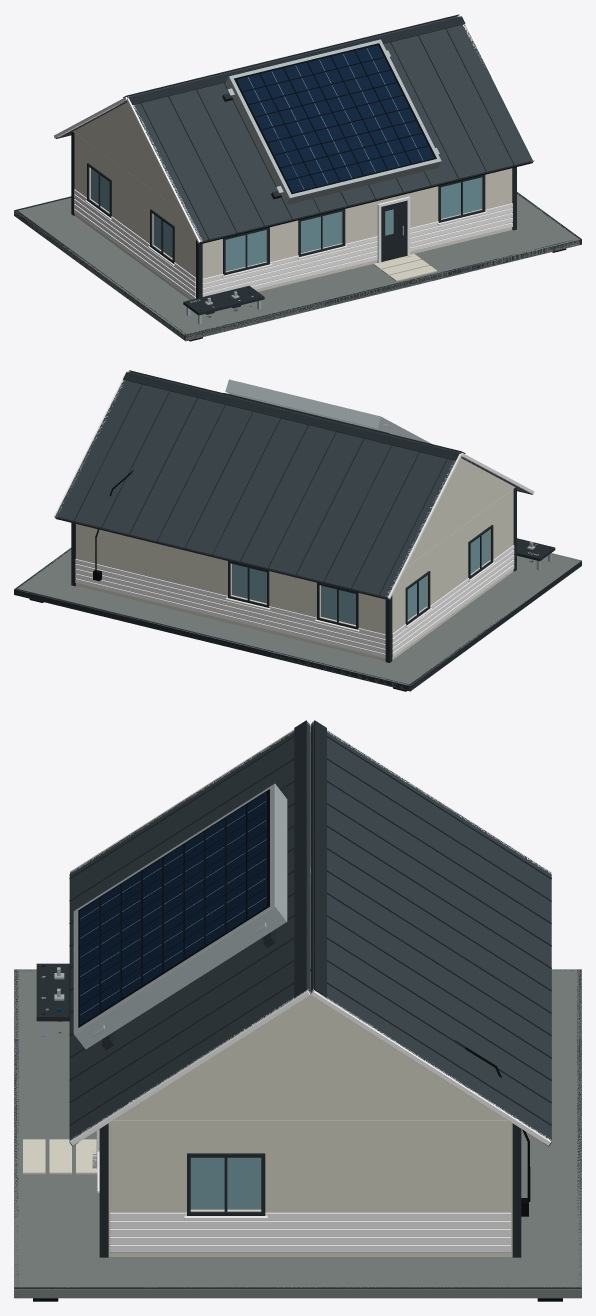
File: dom.glb
3 renders of one model, top to bottom at view 1: azimuth 30°, elevation 25°; view 2: azimuth 150°, elevation 25°; view 3: azimuth 270°, elevation 25°, orthographic. The views are drawn at different scales.
Parts seen in each view (by area): view 1: ROOF P10 rovina 504x230x4, P01 Podstava 600x450x8, P02 Predna stena 480x120x6, P04 Lava stena 318x120x6, SOLAR Panel 230x195x17, ROOF P11 stit 330x116x4, SOLAR Tmave pozadie clankov, ROOF A07 hrebenac 504x12x1, Obvodova hrana podstavy.002, A01 Vodorovny obklad celo.004, A01 Vodorovny obklad celo.006, A01 Vodorovny obklad celo.002 (+18 smaller); view 2: ROOF P10 rovina 504x230x4.001, P01 Podstava 600x450x8, P03 Zadna stena 480x120x6, P04 Lava stena 318x120x6, ROOF P11 stit 330x116x4, ROOF A07 hrebenac 504x12x1.001, Obvodova hrana podstavy.003, SOLAR Panel 230x195x17, A01 Vodorovny obklad celo.001, A01 Vodorovny obklad celo.003, A01 Vodorovny obklad celo.007, A01 Vodorovny obklad celo.005 (+16 smaller); view 3: ROOF P10 rovina 504x230x4.001, P01 Podstava 600x450x8, P05 Prava stena 318x120x6, ROOF P10 rovina 504x230x4, ROOF P11 stit 330x116x4.001, SOLAR Panel 230x195x17, SOLAR Tmave pozadie clankov, Volitelny difuzny akrylat.007, A01 Vodorovny obklad bok.001, A01 Vodorovny obklad bok.003, A01 Vodorovny obklad bok.005, A01 Vodorovny obklad bok.007 (+13 smaller).
Part boxes in pixels (box(x1,y1,x2,y2)): ROOF P10 rovina 504x230x4: box(129, 24, 532, 241); P01 Podstava 600x450x8: box(14, 192, 581, 341); P02 Predna stena 480x120x6: box(202, 168, 512, 292); P04 Lava stena 318x120x6: box(75, 133, 195, 299); SOLAR Panel 230x195x17: box(225, 39, 441, 204); ROOF P11 stit 330x116x4: box(73, 102, 181, 211); SOLAR Tmave pozadie clankov: box(234, 43, 436, 193); ROOF A07 hrebenac 504x12x1: box(129, 16, 465, 104); Obvodova hrana podstavy.002: box(184, 240, 579, 339); A01 Vodorovny obklad celo.004: box(202, 213, 512, 292); A01 Vodorovny obklad celo.006: box(202, 208, 512, 287); A01 Vodorovny obklad celo.002: box(202, 217, 512, 296); ROOF P10 rovina 504x230x4.001: box(55, 380, 458, 597); P01 Podstava 600x450x8: box(14, 548, 581, 691); P03 Zadna stena 480x120x6: box(76, 524, 385, 661); P04 Lava stena 318x120x6: box(392, 489, 513, 659); ROOF P11 stit 330x116x4: box(406, 458, 515, 567); ROOF A07 hrebenac 504x12x1.001: box(123, 372, 459, 460); Obvodova hrana podstavy.003: box(14, 588, 410, 690); SOLAR Panel 230x195x17: box(225, 379, 431, 443); A01 Vodorovny obklad celo.001: box(75, 578, 385, 658); A01 Vodorovny obklad celo.003: box(75, 573, 385, 653); A01 Vodorovny obklad celo.007: box(75, 564, 385, 643); A01 Vodorovny obklad celo.005: box(75, 568, 385, 648); ROOF P10 rovina 504x230x4.001: box(310, 722, 551, 1140); P01 Podstava 600x450x8: box(14, 969, 581, 1298); P05 Prava stena 318x120x6: box(110, 1120, 511, 1256); ROOF P10 rovina 504x230x4: box(70, 722, 310, 1140); ROOF P11 stit 330x116x4.001: box(114, 986, 506, 1119); SOLAR Panel 230x195x17: box(73, 783, 287, 1049); SOLAR Tmave pozadie clankov: box(78, 789, 269, 1027); Volitelny difuzny akrylat.007: box(190, 1157, 261, 1209); A01 Vodorovny obklad bok.001: box(110, 1244, 511, 1252); A01 Vodorovny obklad bok.003: box(110, 1236, 511, 1244); A01 Vodorovny obklad bok.005: box(110, 1228, 511, 1236); A01 Vodorovny obklad bok.007: box(110, 1220, 511, 1228).
Size of the model in its own units: 0.6 by 0.2667 by 0.45.
